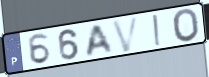6: (27, 32, 52, 66), (57, 27, 80, 61)
A: (85, 22, 115, 58)
I: (151, 13, 163, 48)
O: (171, 7, 201, 44)
V: (110, 14, 142, 54)
